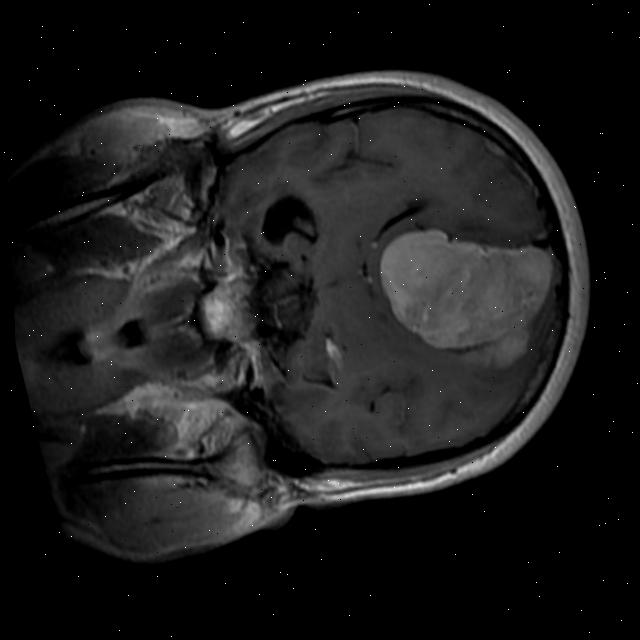Meningioma: (364, 193, 579, 399)
Pituitary: (193, 278, 255, 345)
